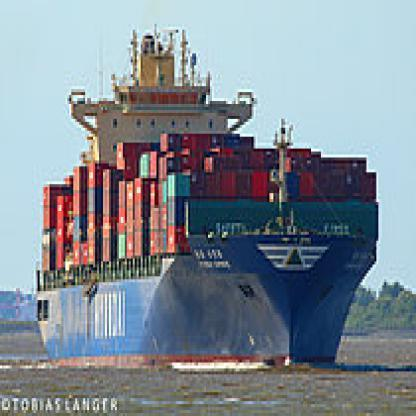Container Ship: (33, 23, 380, 371)
